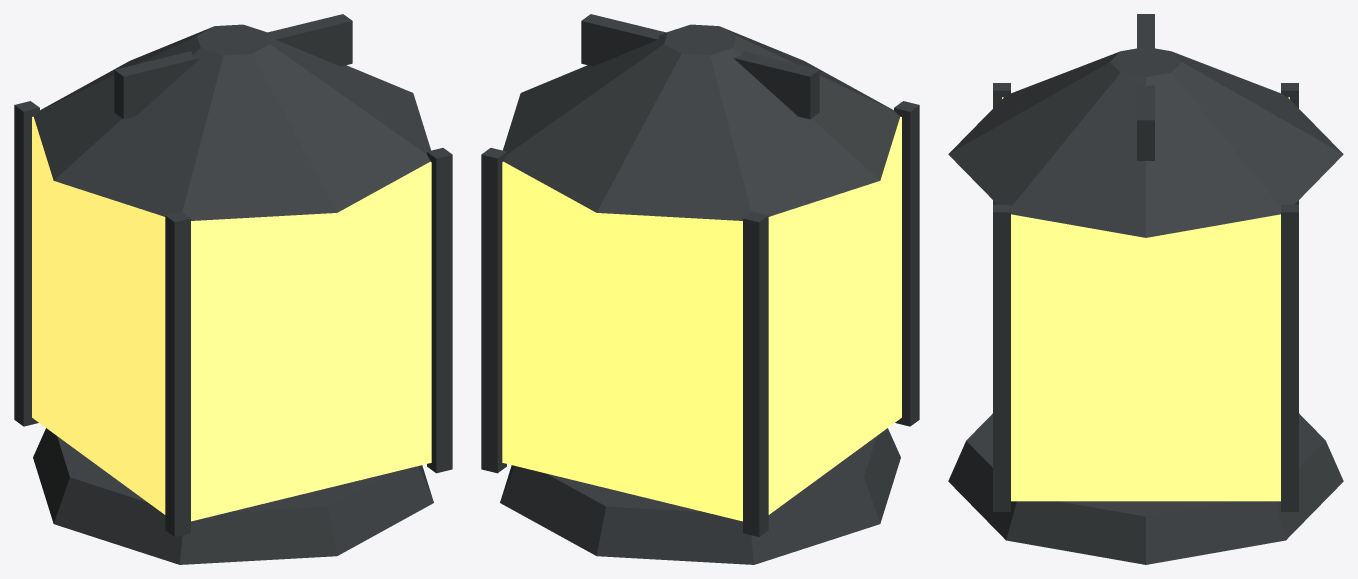
Rendered from tool_lantern_bright.glb.
3 views of the same model, side by side, from view 1: azimuth 30°, elevation 25°; view 2: azimuth 150°, elevation 25°; view 3: azimuth 270°, elevation 25° (orthographic). The views are drawn at different scales.
Parts seen in each view (by area): view 1: Lantern; view 2: Lantern; view 3: Lantern.
Part boxes in pixels (x1,y1,x2,y2): Lantern: (14, 14, 452, 564); Lantern: (481, 14, 919, 564); Lantern: (948, 14, 1343, 564).
Bounding box in the file's own units: 0.264 × 0.3088 × 0.264.
